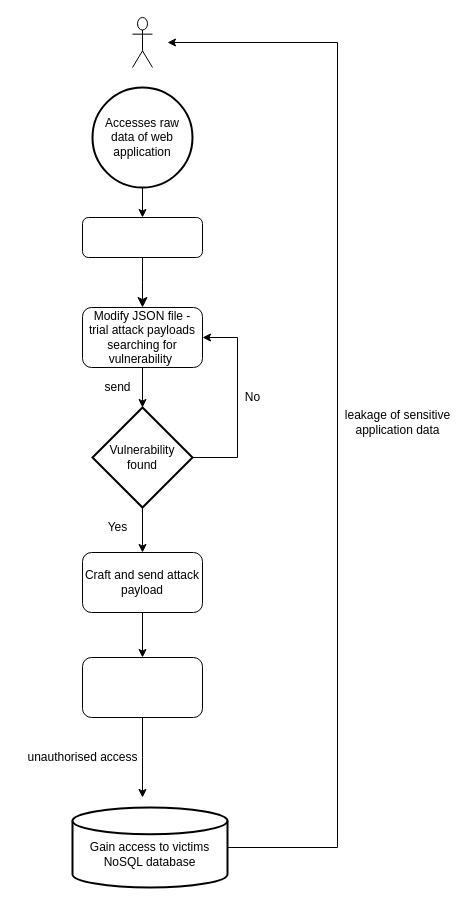
Image size: 474x906. Some labels were removed from this diagram. The centre of each missing label's shape, as x and y in pixels:
"Identify JSON query file for attack" goes at (142,237).
"Inject code into web application's server" goes at (142,687).
"Malicious Actor" goes at (142,42).
